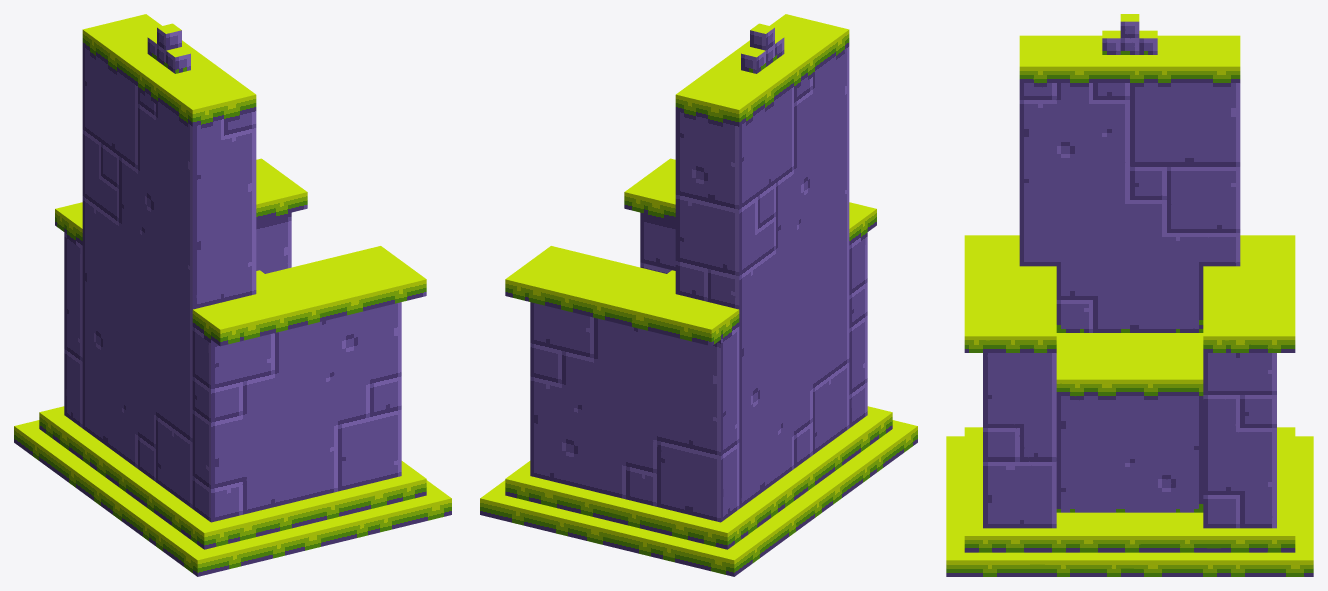
Rendered from throne_bao.fezao.glb.
3 renders of one model, left to right at view 1: azimuth 30°, elevation 25°; view 2: azimuth 150°, elevation 25°; view 3: azimuth 270°, elevation 25°, orthographic.
Parts seen in each view (by area): view 1: THRONE_BAO; view 2: THRONE_BAO; view 3: THRONE_BAO.
Boxes of the visible parts, x1=… form: THRONE_BAO: x1=14, y1=14, x2=451, y2=576; THRONE_BAO: x1=480, y1=14, x2=917, y2=576; THRONE_BAO: x1=946, y1=14, x2=1313, y2=576.
Bounding box in the file's own units: 4 × 7 × 5.
1 material, 1 textured.
